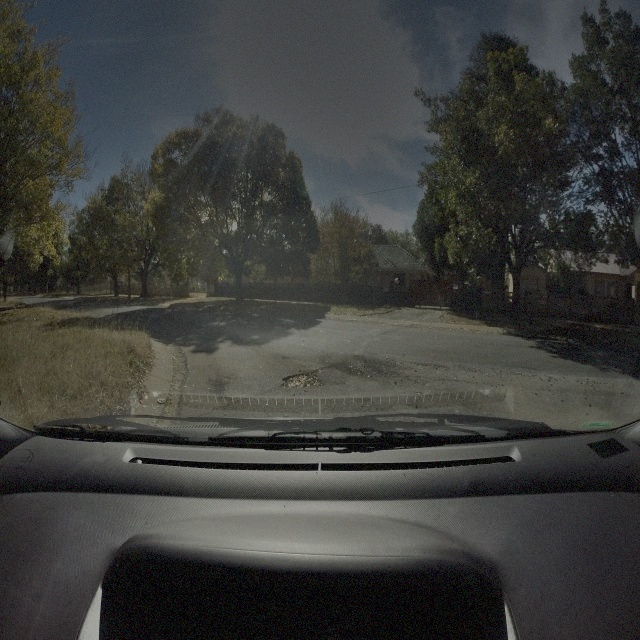pothole: (280, 368, 324, 391)
